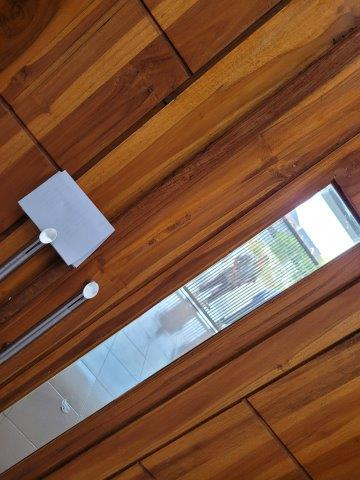kertas: (17, 170, 116, 267)
